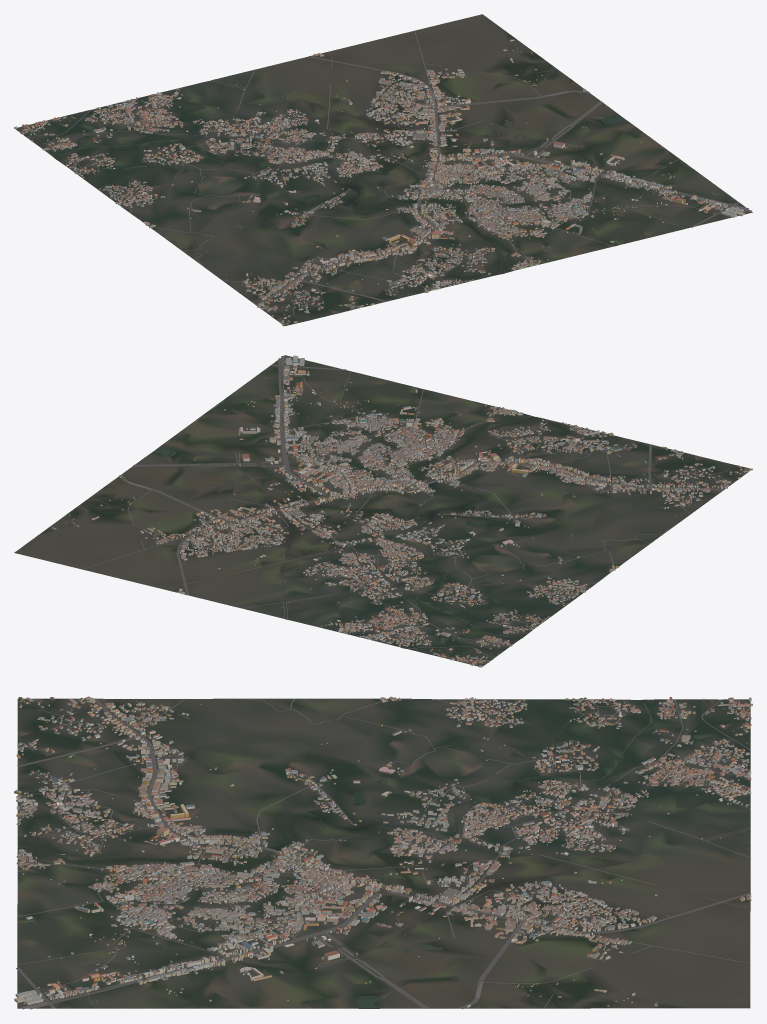
3 views of the same model, one above another, from view 1: azimuth 30°, elevation 25°; view 2: azimuth 150°, elevation 25°; view 3: azimuth 270°, elevation 25° (orthographic). The views are drawn at different scales.
Parts seen in each view (by area): view 1: ground, buildings, roads, water; view 2: ground, buildings, roads, water; view 3: ground, buildings, roads, water.
Boxes of the visible parts, box(x1,y1,x2,y2) form: ground: box(15, 14, 752, 325); buildings: box(14, 39, 744, 326); roads: box(21, 31, 751, 325); water: box(31, 60, 699, 273); ground: box(14, 355, 750, 666); buildings: box(51, 355, 752, 667); roads: box(82, 356, 749, 663); water: box(152, 378, 532, 658); ground: box(17, 698, 750, 1008); buildings: box(14, 696, 752, 1007); roads: box(16, 698, 750, 1009); water: box(18, 700, 749, 1008).
Size of the model in its own units: 2817 by 33.64 by 2827.
